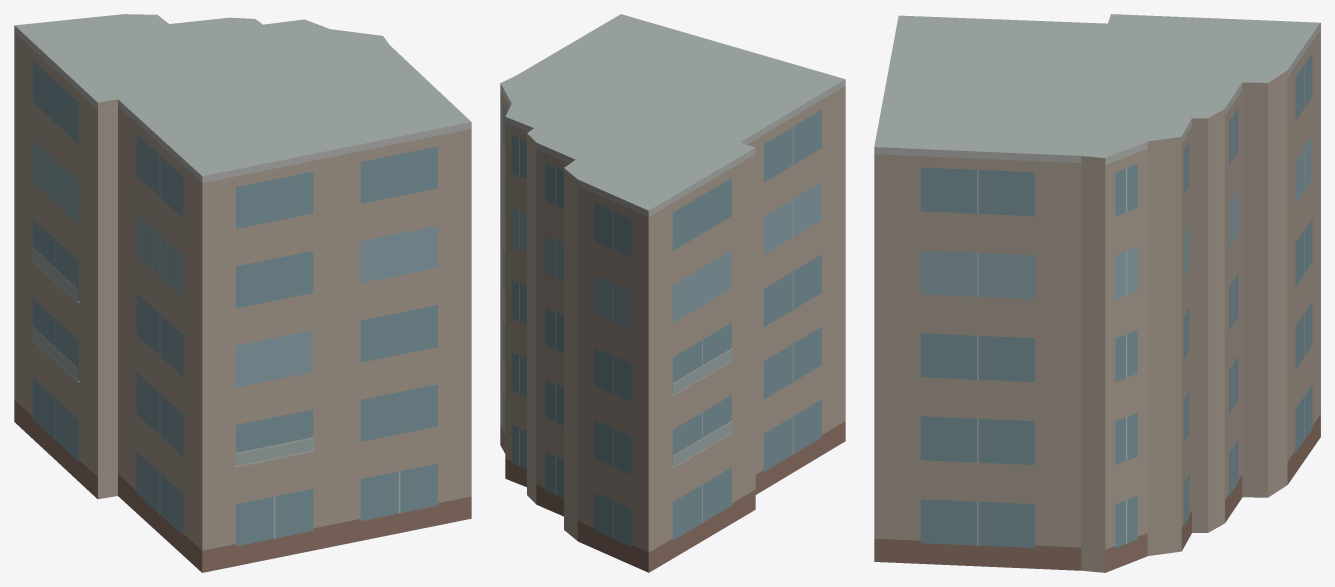
Rendered from survey-upis-32782796.glb.
3 views of the same model, side by side, from view 1: azimuth 30°, elevation 25°; view 2: azimuth 150°, elevation 25°; view 3: azimuth 270°, elevation 25° (orthographic). The views are drawn at different scales.
Parts seen in each view (by area): view 1: survey-upis-32782796.tmp; view 2: survey-upis-32782796.tmp; view 3: survey-upis-32782796.tmp.
Boxes of the visible parts, <box> form: survey-upis-32782796.tmp: <box>14,14,471,572</box>; survey-upis-32782796.tmp: <box>500,14,845,572</box>; survey-upis-32782796.tmp: <box>874,14,1320,572</box>.
Size of the model in its own units: 10.44 by 14 by 13.67.
